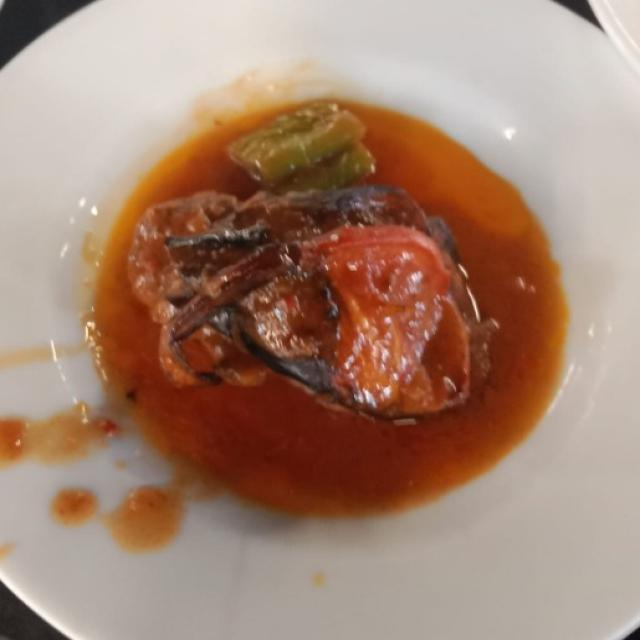ana_yemek: (46, 73, 603, 574)
